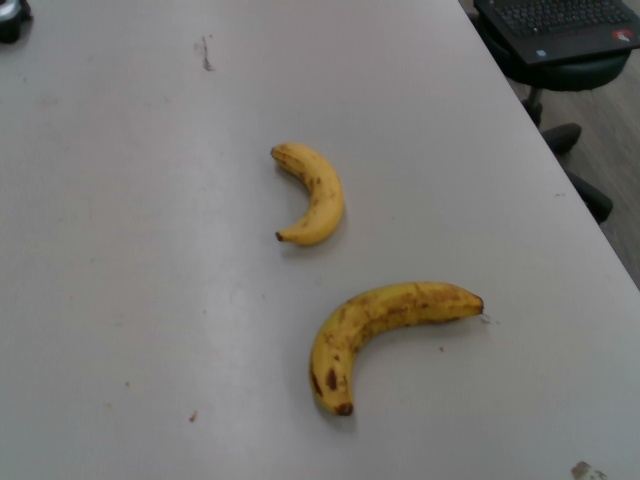banana: (308, 283, 486, 419), (267, 141, 345, 249)
